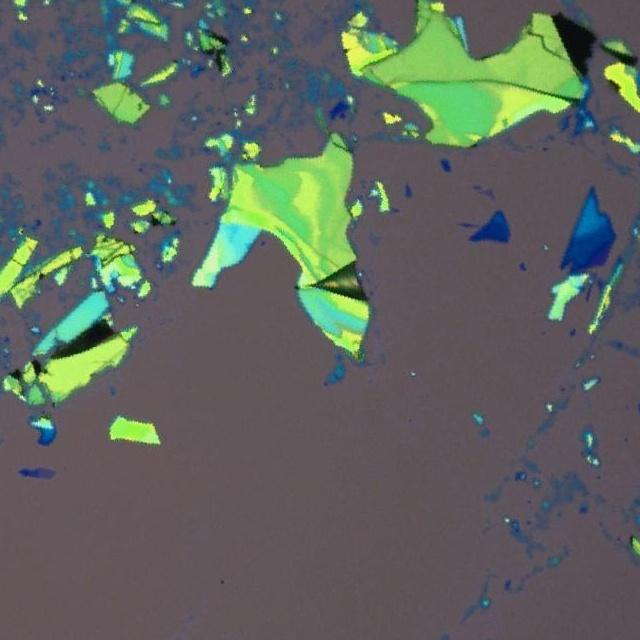monolayer-eWW4: (38, 466, 56, 480)
